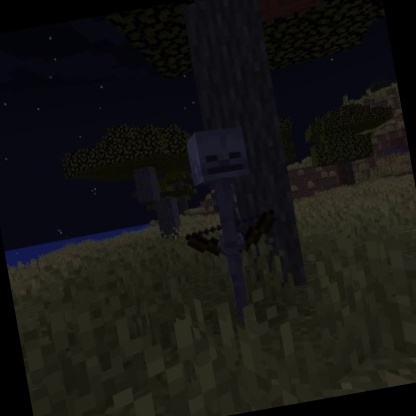skeleton: (162, 115, 298, 328)
